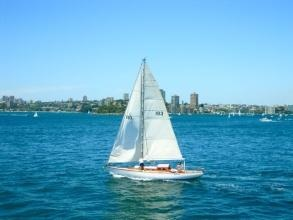fanchuan: (101, 56, 209, 185)
